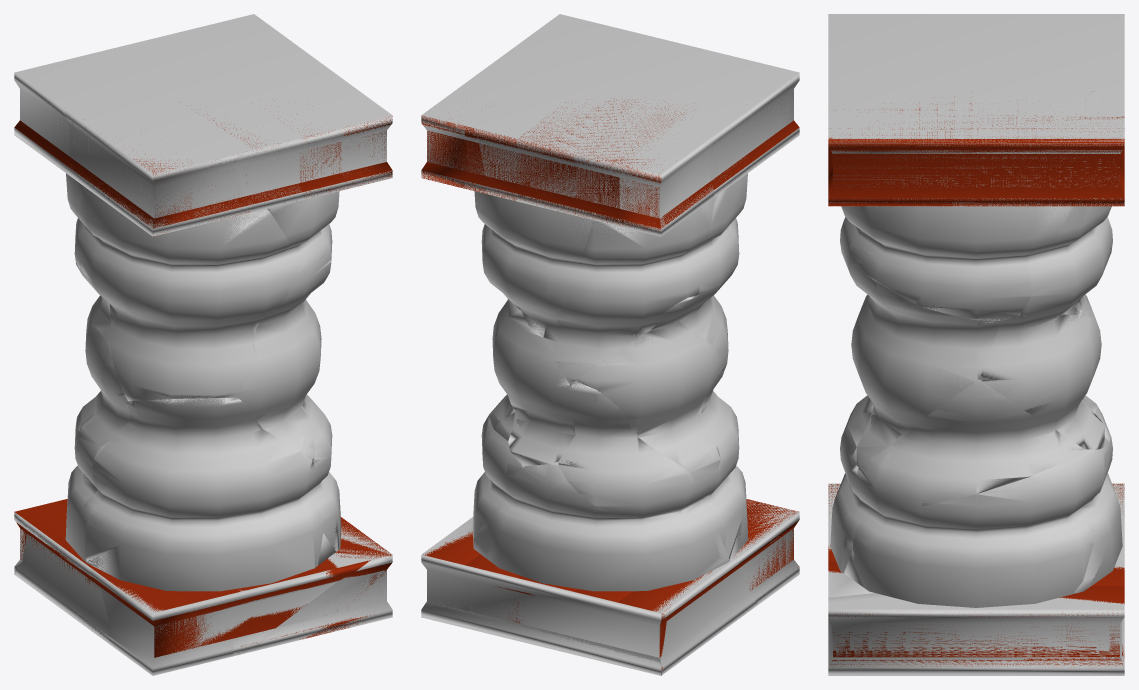
Rendered from column decorative.fbx.
3 views of the same model, side by side, from view 1: azimuth 30°, elevation 25°; view 2: azimuth 150°, elevation 25°; view 3: azimuth 270°, elevation 25° (orthographic). The views are drawn at different scales.
Visible parts, largest first — view 1: column unfractured marble, column middle, two mat - middle chunk 10, two mat - middle chunk 7, two mat - top chunk 5 (×2), two mat - top chunk 4 (×2), two mat - bottom chunk 1 (×2), two mat - middle chunk 4, two mat - bottom chunk 3 (×2), two mat - bottom chunk 2 (×2), two mat - bottom chunk 5, two mat - top chunk 1 (×2) (+9 smaller); view 2: column unfractured marble, column middle, column bottom, two mat - middle chunk 12, two mat - middle chunk 8, two mat - middle chunk 1, two mat - top chunk 1 (×2), two mat - middle chunk 3, two mat - top chunk 3 (×2), two mat - top chunk 5 (×2), two mat - middle chunk 9, two mat - middle chunk 6 (+9 smaller); view 3: column unfractured marble, column middle, column bottom, two mat - top chunk 1, two mat - middle chunk 2, two mat - middle chunk 4, two mat - middle chunk 5, two mat - middle chunk 6, two mat - middle chunk 11, column unfractured marble+wood, two mat - middle chunk 9, two mat - middle chunk 10 (+6 smaller).
Part boxes in pixels (bbox=[...]): column unfractured marble: bbox=[14, 14, 392, 674]; column middle: bbox=[65, 174, 341, 587]; two mat - middle chunk 10: bbox=[84, 397, 322, 591]; two mat - middle chunk 7: bbox=[77, 184, 290, 400]; two mat - top chunk 5 (×2): bbox=[14, 110, 250, 236]; two mat - top chunk 4 (×2): bbox=[192, 115, 392, 224]; two mat - bottom chunk 1 (×2): bbox=[89, 517, 391, 675]; two mat - middle chunk 4: bbox=[240, 259, 331, 460]; two mat - bottom chunk 3 (×2): bbox=[15, 519, 301, 644]; two mat - bottom chunk 2 (×2): bbox=[248, 522, 392, 652]; two mat - bottom chunk 5: bbox=[14, 501, 194, 657]; two mat - top chunk 1 (×2): bbox=[14, 73, 392, 189]; column unfractured marble: bbox=[421, 14, 799, 672]; column middle: bbox=[472, 176, 748, 591]; column bottom: bbox=[421, 499, 798, 675]; two mat - middle chunk 12: bbox=[543, 199, 714, 382]; two mat - middle chunk 8: bbox=[473, 462, 729, 591]; two mat - middle chunk 1: bbox=[575, 295, 721, 495]; two mat - top chunk 1 (×2): bbox=[421, 115, 714, 236]; two mat - middle chunk 3: bbox=[558, 381, 694, 517]; two mat - top chunk 3 (×2): bbox=[474, 98, 632, 213]; two mat - top chunk 5 (×2): bbox=[617, 73, 799, 231]; two mat - middle chunk 9: bbox=[474, 191, 593, 336]; two mat - middle chunk 6: bbox=[492, 299, 575, 465]; column unfractured marble: bbox=[828, 14, 1124, 666]; column middle: bbox=[840, 206, 1121, 607]; column bottom: bbox=[828, 483, 1124, 675]; two mat - top chunk 1: bbox=[828, 115, 1124, 206]; two mat - middle chunk 2: bbox=[842, 206, 1071, 320]; two mat - middle chunk 4: bbox=[845, 245, 998, 468]; two mat - middle chunk 5: bbox=[857, 380, 1082, 508]; two mat - middle chunk 6: bbox=[979, 312, 1104, 449]; two mat - middle chunk 11: bbox=[858, 449, 1105, 607]; column unfractured marble+wood: bbox=[829, 613, 1124, 667]; two mat - middle chunk 9: bbox=[1020, 206, 1112, 317]; two mat - middle chunk 10: bbox=[830, 395, 873, 571].
Size of the model in its own units: 100 by 200 by 100.
